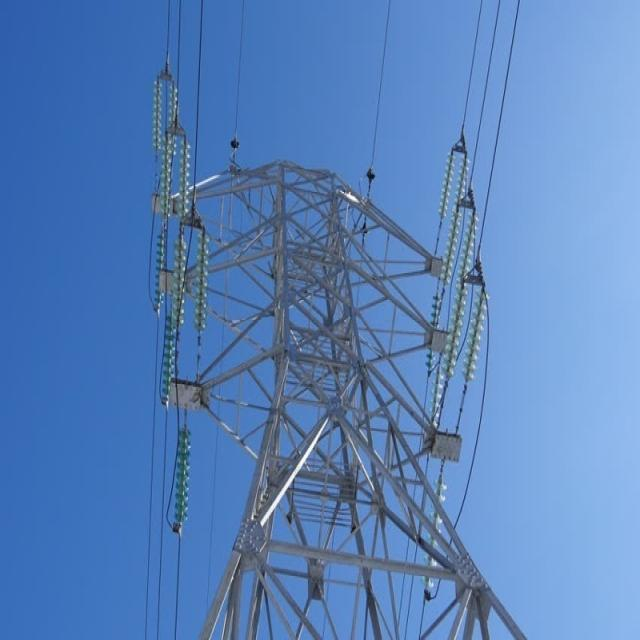non-critical vegetation: (138, 76, 576, 632)
